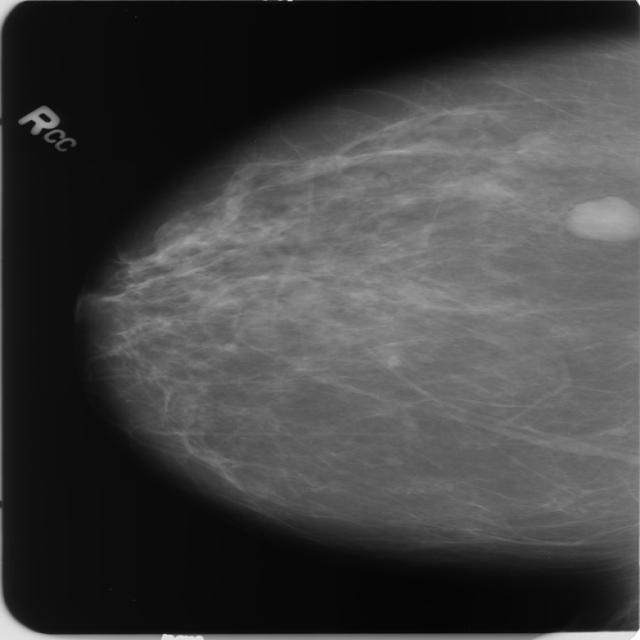tumour: (563, 195, 637, 242)
